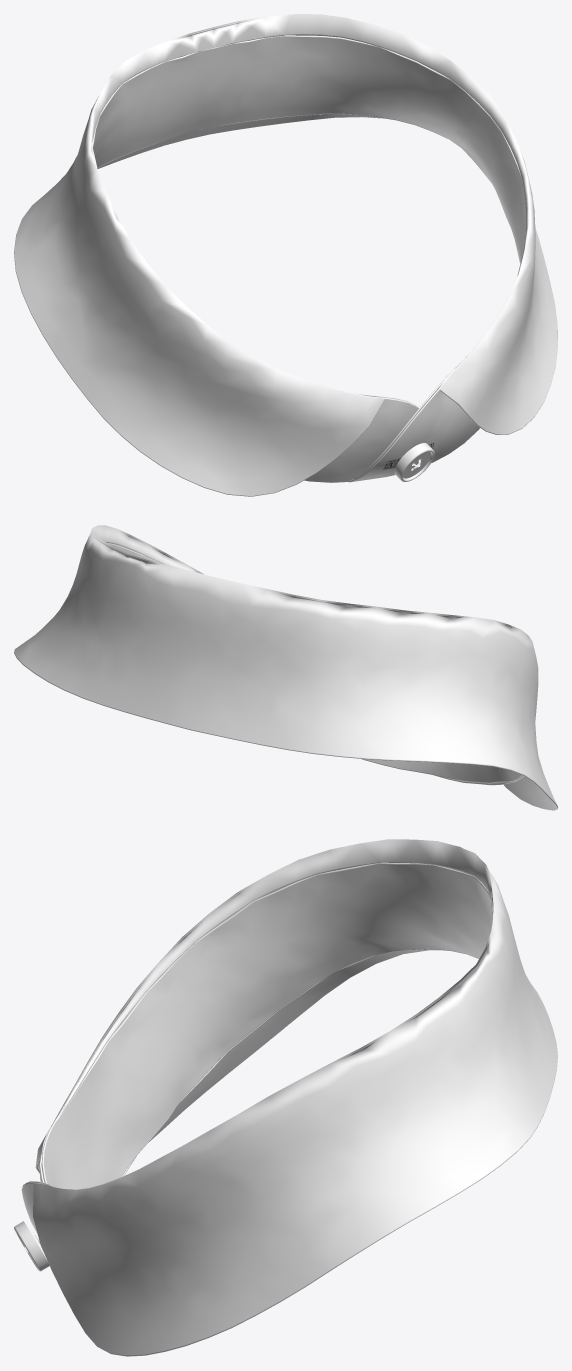
The model's file is Rounded_Collar.glb.
3 views of the same model, one above another, from view 1: azimuth 30°, elevation 25°; view 2: azimuth 150°, elevation 25°; view 3: azimuth 270°, elevation 25° (orthographic). The views are drawn at different scales.
Parts seen in each view (by area): view 1: mesh_2_1, mesh_3_1, mesh_0, mesh_2, mesh_3_2, mesh_2_2, button, mesh_0_2, mesh_0_1; view 2: mesh_2_1, mesh_3_1, mesh_2, mesh_2_2; view 3: mesh_2_1, mesh_3_1, mesh_2, mesh_3_2, mesh_2_2, mesh_0_1, mesh_0_2, button.
Part boxes in pixels (x1,y1,x2,y2): mesh_2_1: (14, 14, 557, 495); mesh_3_1: (93, 36, 526, 263); mesh_0: (304, 390, 479, 482); mesh_2: (91, 14, 526, 353); mesh_3_2: (92, 35, 526, 479); mesh_2_2: (14, 34, 557, 496); button: (394, 443, 434, 481); mesh_0_2: (98, 34, 522, 482); mesh_0_1: (97, 34, 526, 210); mesh_2_1: (14, 525, 556, 803); mesh_3_1: (110, 544, 521, 782); mesh_2: (90, 528, 556, 810); mesh_2_2: (14, 542, 557, 810); mesh_2_1: (33, 839, 557, 1355); mesh_3_1: (43, 863, 492, 1189); mesh_2: (38, 846, 493, 1169); mesh_3_2: (25, 862, 492, 1185); mesh_2_2: (32, 862, 557, 1356); mesh_0_1: (41, 862, 483, 1182); mesh_0_2: (22, 862, 478, 1187); button: (14, 1221, 49, 1271).
Size of the model in its own units: 16.18 by 10.01 by 13.26.
12 materials, 1 textured.
